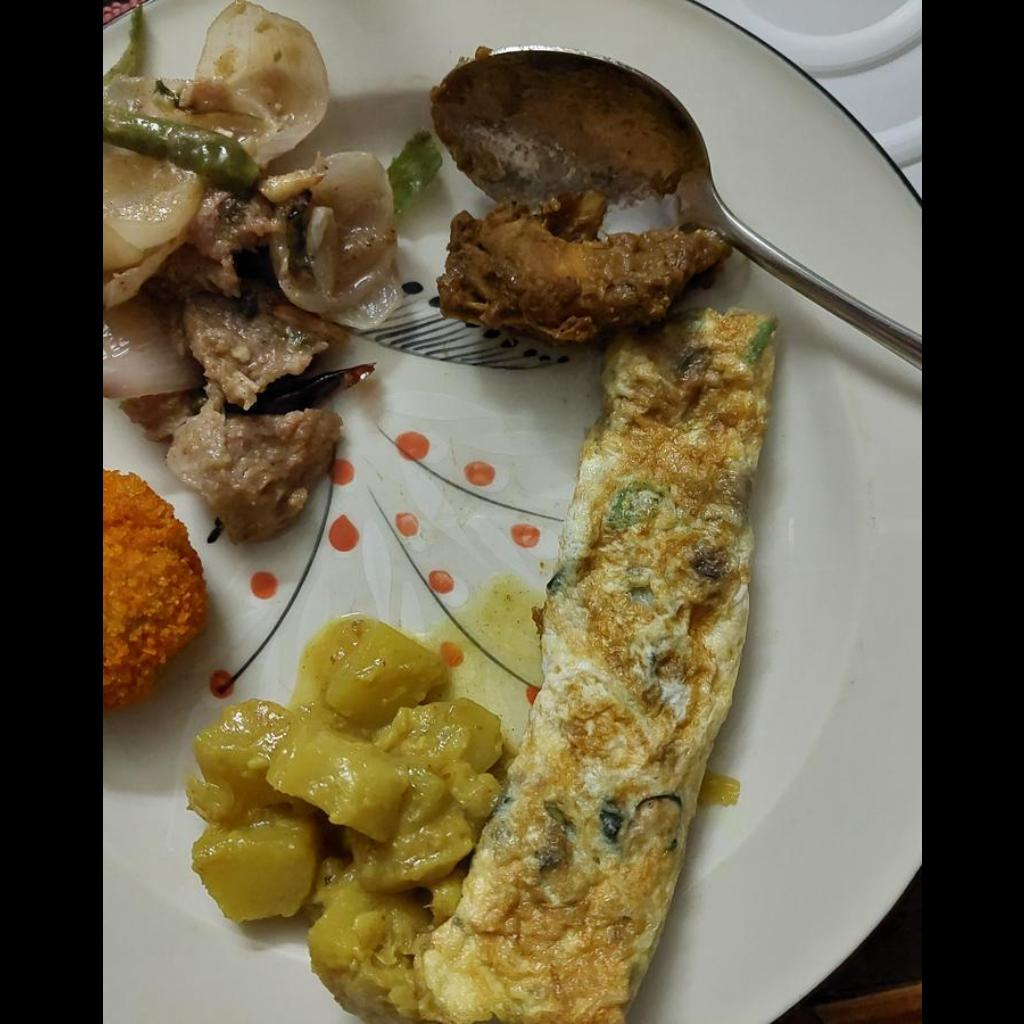chicken: (435, 194, 721, 339)
egg-poached: (433, 313, 773, 1022)
piyaju: (102, 472, 200, 710)
vegetable: (102, 8, 396, 538), (168, 616, 510, 1022)
